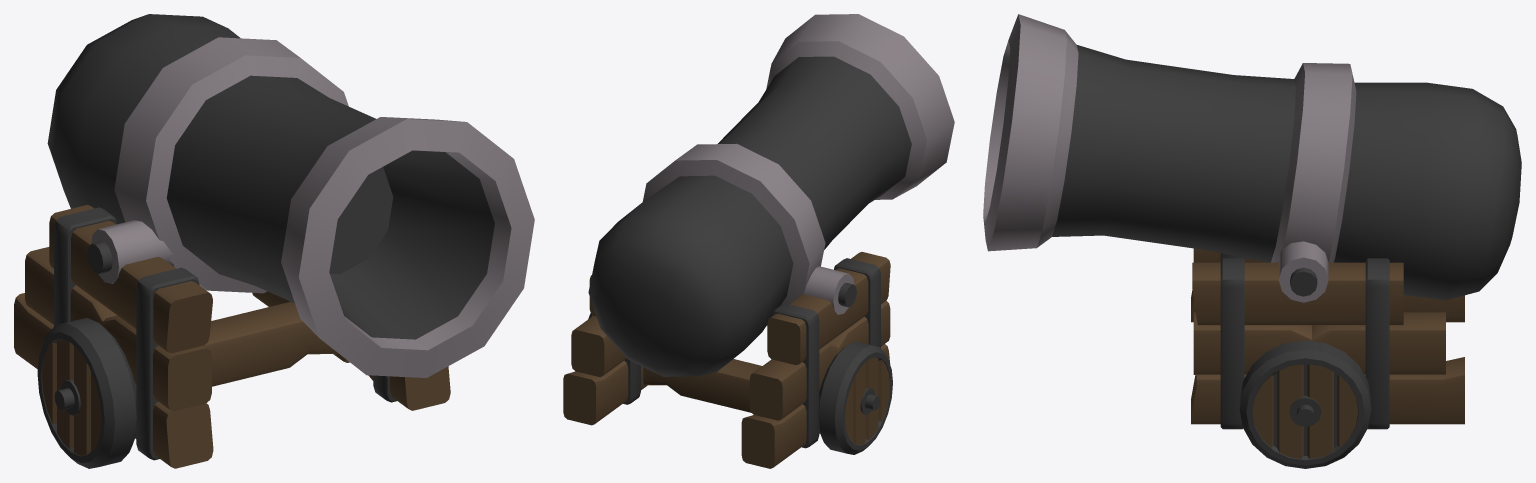
File: tower_cannon.glb
3 renders of one model, left to right at view 1: azimuth 30°, elevation 25°; view 2: azimuth 150°, elevation 25°; view 3: azimuth 270°, elevation 25°, orthographic. The views are drawn at different scales.
Parts seen in each view (by area): view 1: Prop_Cannon; view 2: Prop_Cannon; view 3: Prop_Cannon.
Boxes of the visible parts, bbox=[...] form: Prop_Cannon: bbox=[14, 14, 534, 468]; Prop_Cannon: bbox=[563, 14, 954, 468]; Prop_Cannon: bbox=[983, 14, 1521, 468].
Bounding box in the file's own units: 1.04 × 1.13 × 1.48.
Materials: 1 (1 with a texture image).
